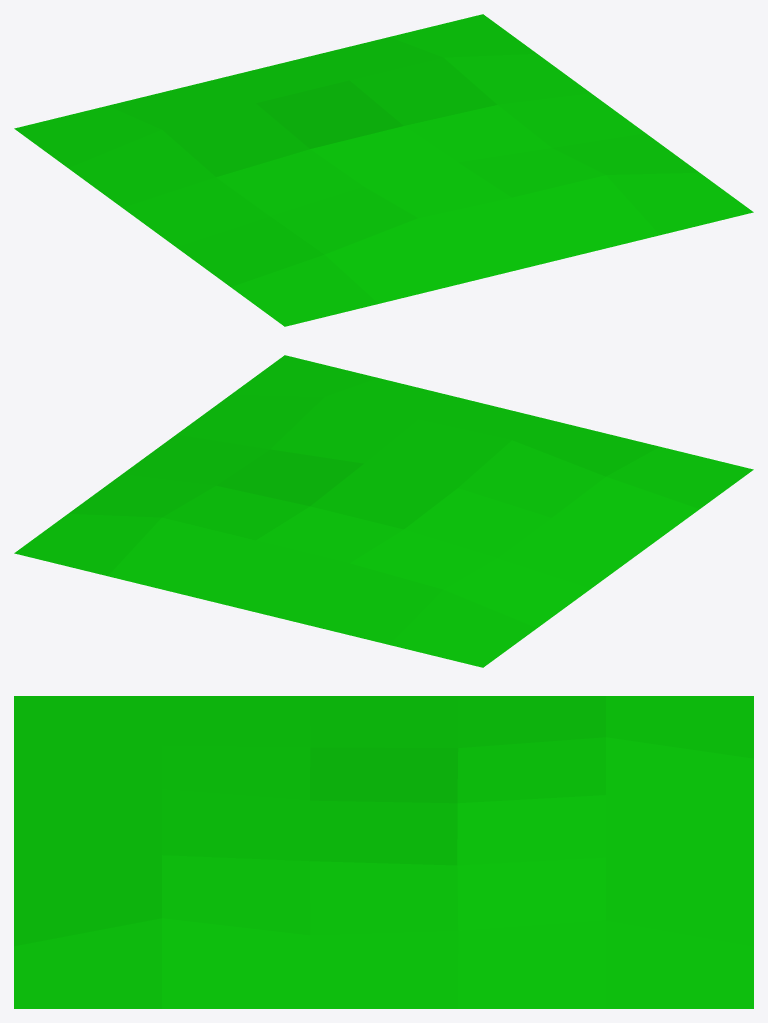
The model's file is Park Square 2.FBX.
3 renders of one model, top to bottom at view 1: azimuth 30°, elevation 25°; view 2: azimuth 150°, elevation 25°; view 3: azimuth 270°, elevation 25°, orthographic. The views are drawn at different scales.
Parts seen in each view (by area): view 1: Box001; view 2: Box001; view 3: Box001.
Part boxes in pixels (bbox=[...]): Box001: bbox=[14, 14, 753, 326]; Box001: bbox=[14, 355, 753, 667]; Box001: bbox=[14, 696, 753, 1008].
Size of the model in its own units: 1000 by 47.4 by 1000.
